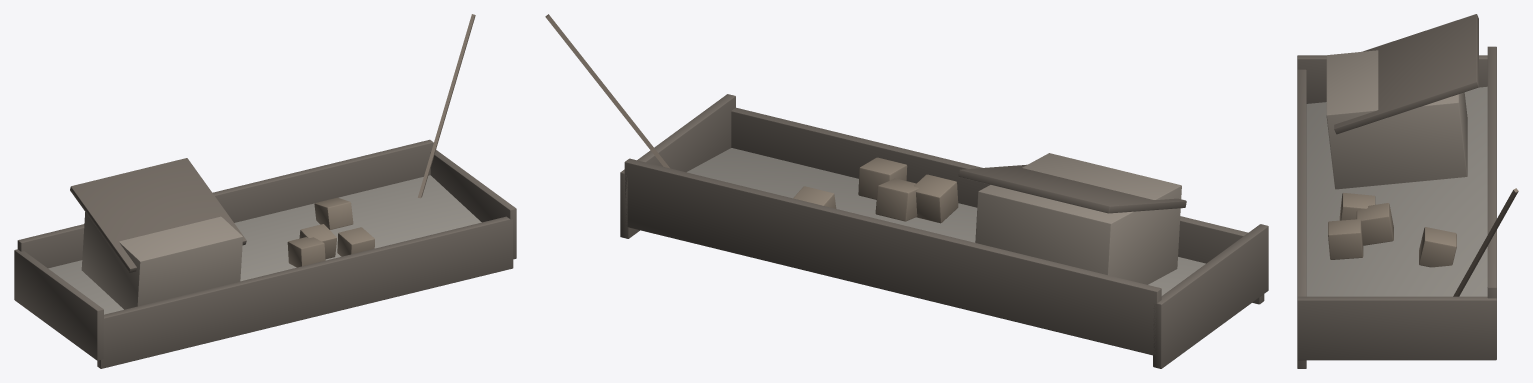
File: barge.gltf
3 renders of one model, left to right at view 1: azimuth 30°, elevation 25°; view 2: azimuth 150°, elevation 25°; view 3: azimuth 270°, elevation 25°, orthographic. The views are drawn at different scales.
Parts seen in each view (by area): view 1: Body; view 2: Body; view 3: Body.
Part boxes in pixels (bbox=[...]): Body: bbox=[14, 14, 516, 368]; Body: bbox=[545, 14, 1268, 368]; Body: bbox=[1297, 14, 1518, 368].
Size of the model in its own units: 13.65 by 4.88 by 4.66.
